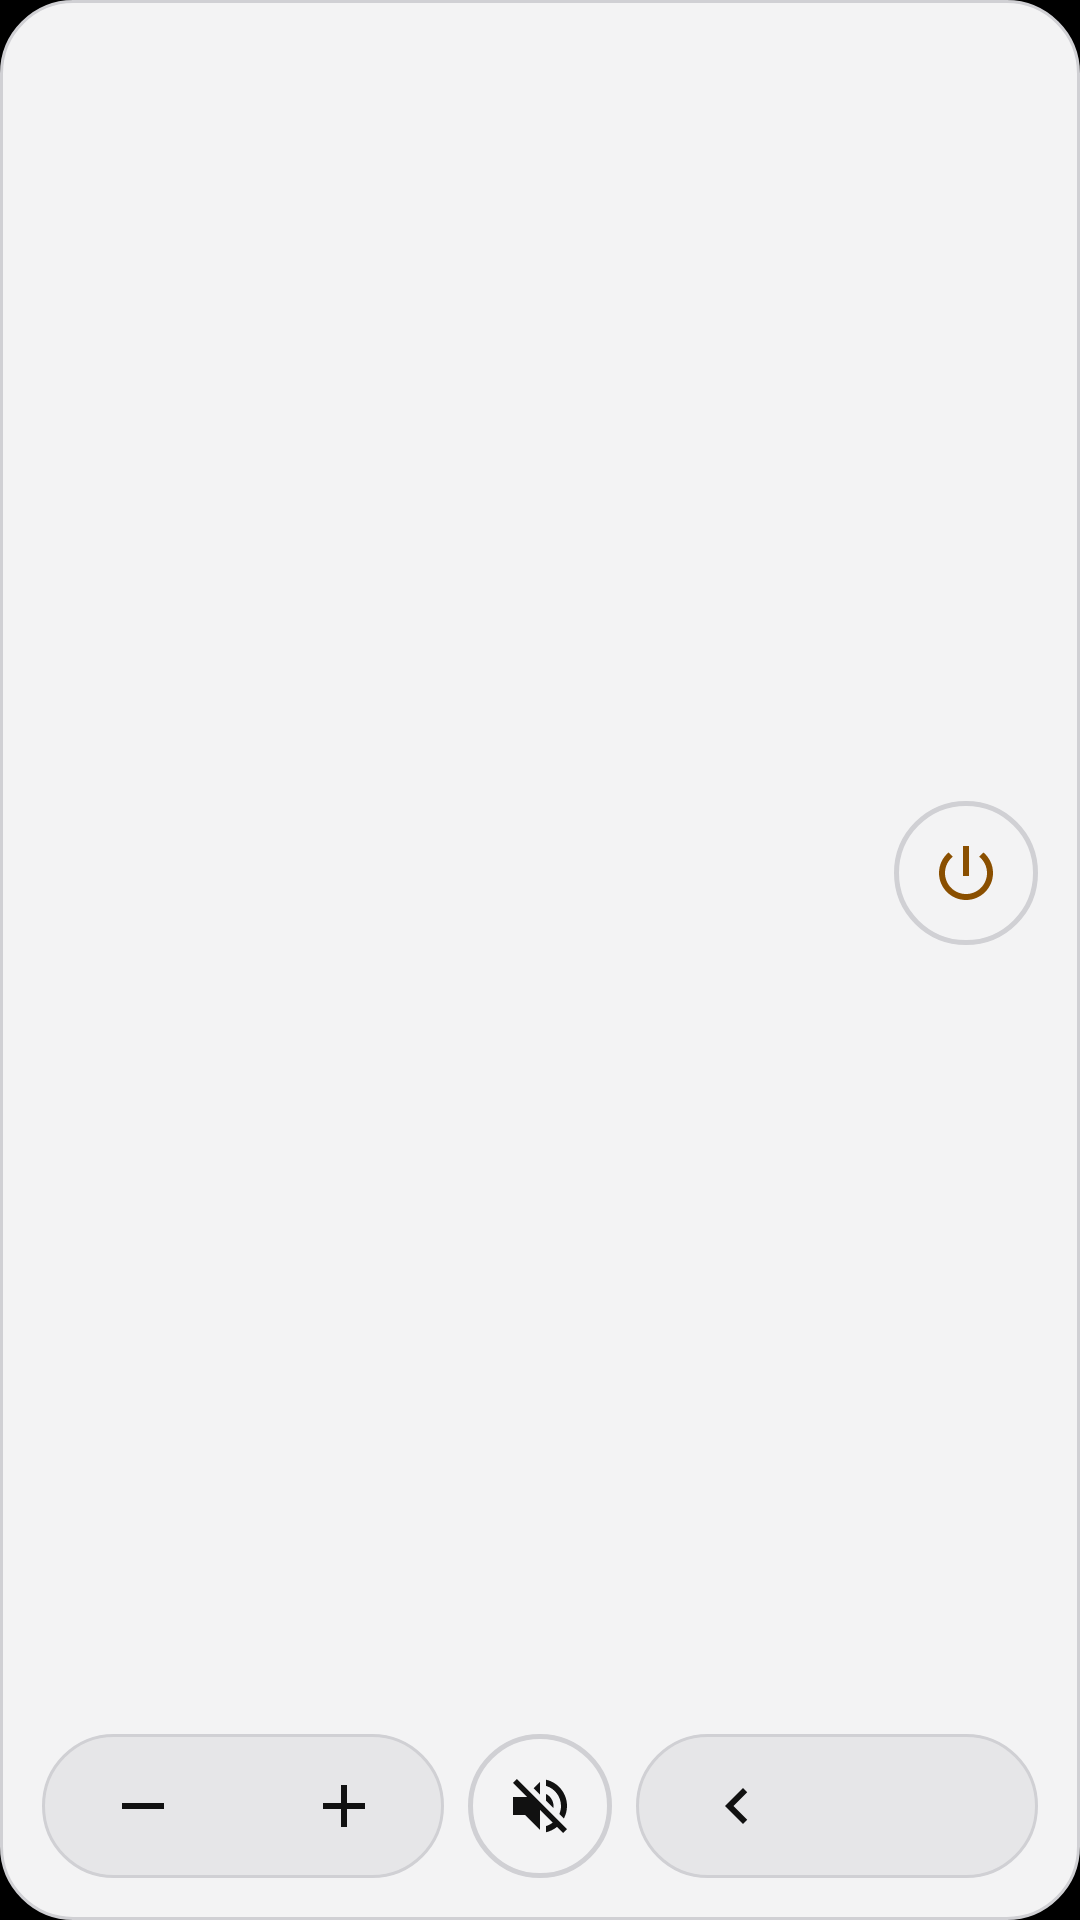

Point at icon controls on the screen. Image size 1080 × 1920, points as (x=x, y=y).
Mute: (x=540, y=1806)
Power: (x=966, y=873)
Volume down: (x=142, y=1806)
Volume up: (x=343, y=1806)
